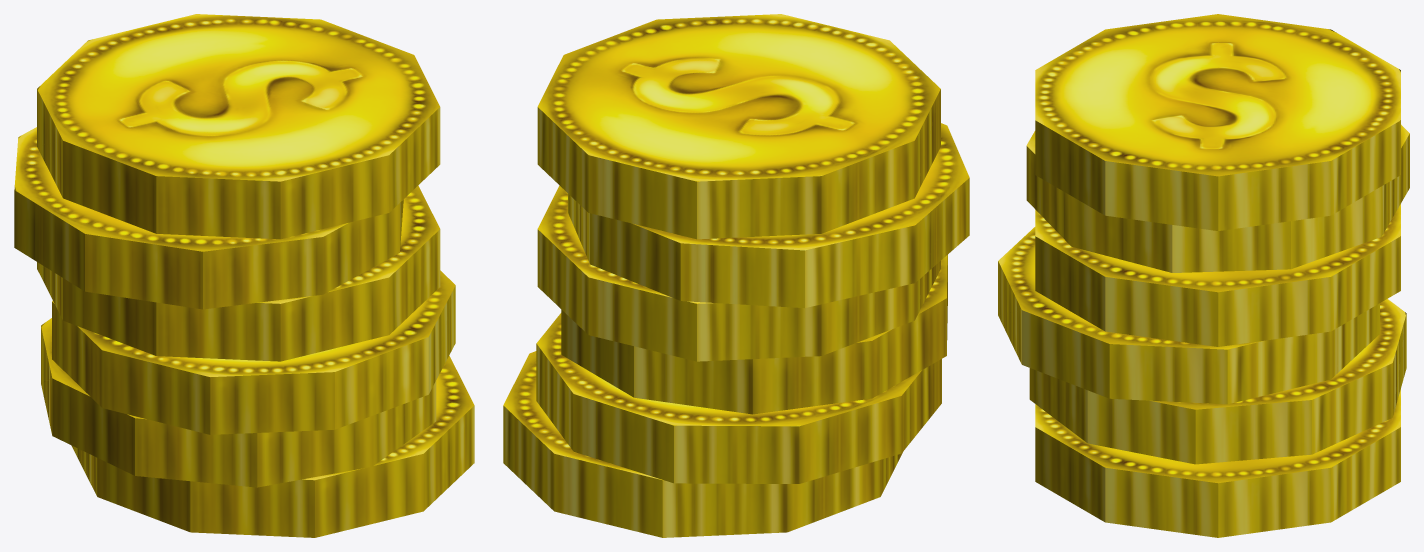
File: coin_010.fbx
3 renders of one model, left to right at view 1: azimuth 30°, elevation 25°; view 2: azimuth 150°, elevation 25°; view 3: azimuth 270°, elevation 25°, orthographic. The views are drawn at different scales.
Parts seen in each view (by area): view 1: coin_010; view 2: coin_010; view 3: coin_010.
Boxes of the visible parts, x1=… form: coin_010: x1=14, y1=14, x2=474, y2=537; coin_010: x1=503, y1=14, x2=969, y2=537; coin_010: x1=998, y1=14, x2=1409, y2=537.
Size of the model in its own units: 4.97 by 4.22 by 4.56.
